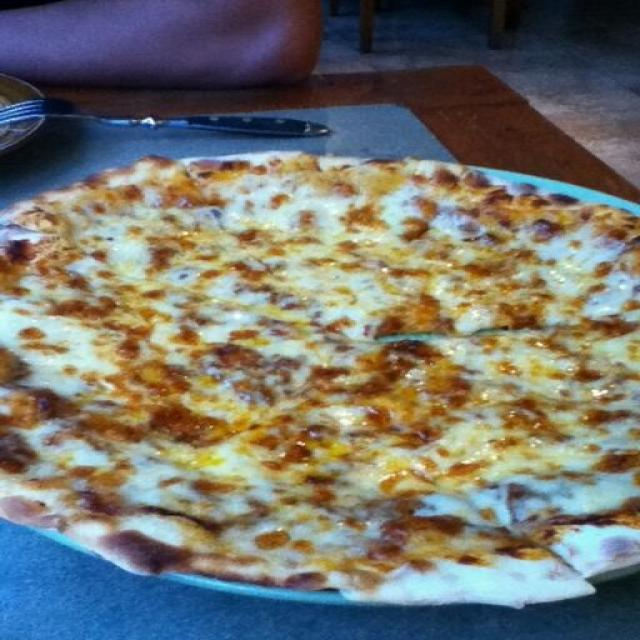Cheese: (234, 194, 388, 316), (441, 414, 615, 520), (5, 300, 116, 389), (167, 447, 280, 514), (529, 237, 631, 300), (70, 221, 177, 278)
Pizza: (0, 151, 640, 611)
